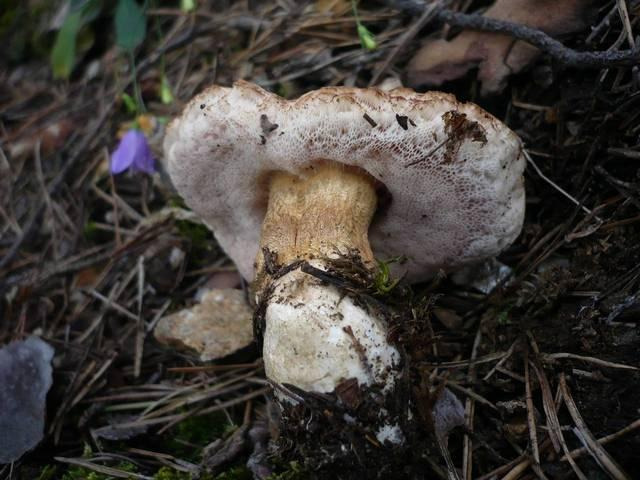poisonous_mushroom: (160, 77, 528, 449)
